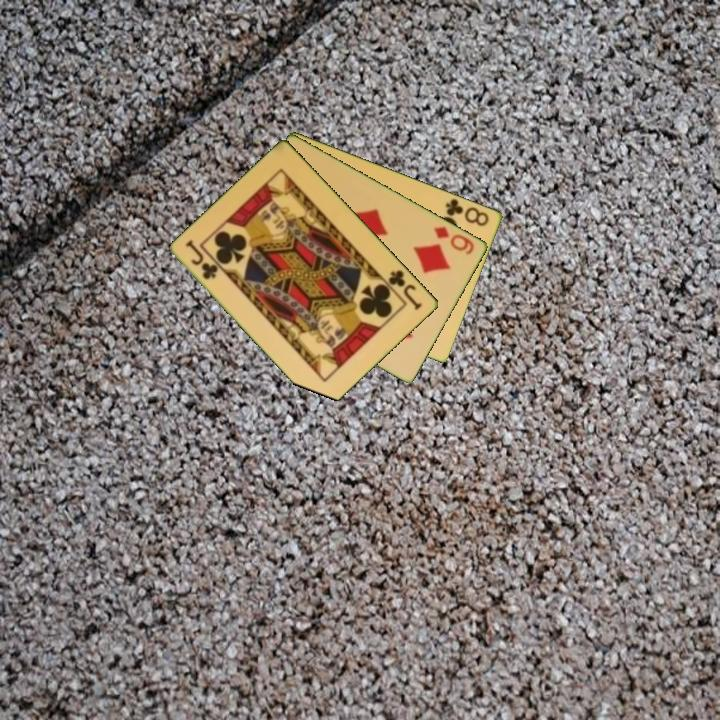6d: (430, 222, 478, 257)
8c: (442, 195, 492, 229)
Jc: (385, 266, 426, 313), (182, 237, 222, 283)
